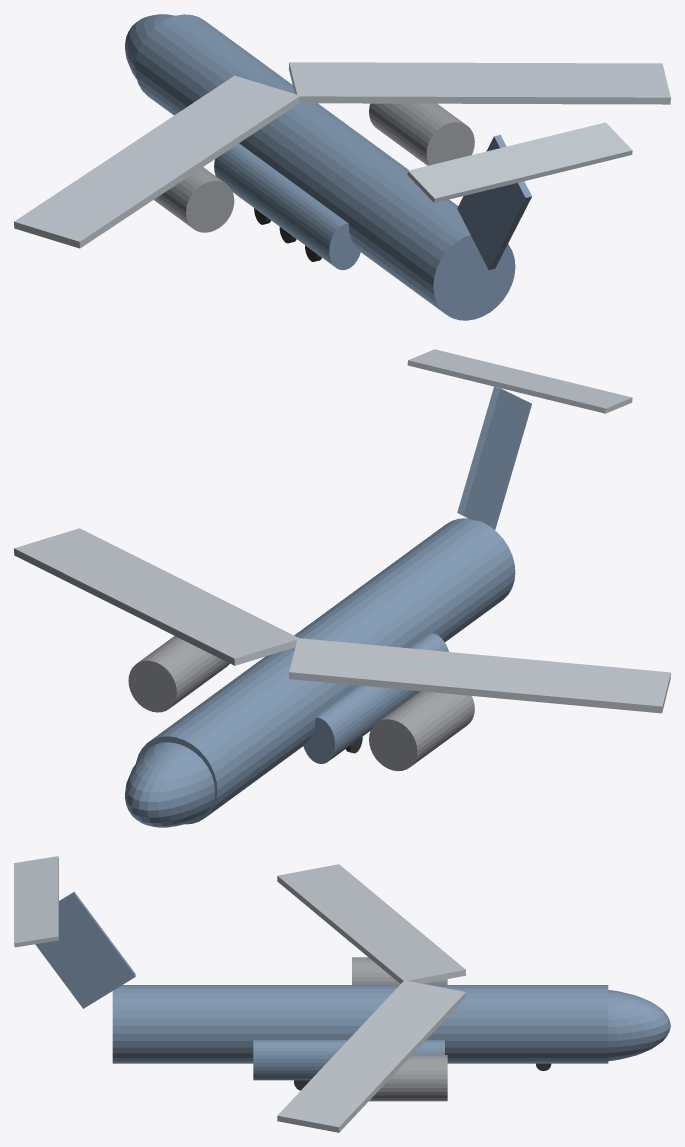
File: kawasaki_c2.glb
3 views of the same model, one above another, from view 1: azimuth 30°, elevation 25°; view 2: azimuth 150°, elevation 25°; view 3: azimuth 270°, elevation 25° (orthographic). The views are drawn at different scales.
Parts seen in each view (by area): view 1: C2_Fuselage, Cube.001, Cube, C2_HTail, Cylinder.003, Cylinder, C2_VFin, Cylinder.002, Sphere; view 2: C2_Fuselage, Cube.001, Cube, Sphere, C2_VFin, Cylinder.002, C2_HTail, Cylinder.003, Cylinder; view 3: C2_Fuselage, Cube, Cube.001, C2_VFin, C2_HTail, Cylinder.001, Sphere, Cylinder, Cylinder.002.
Boxes of the visible parts, x1,y1,x2,y2 form: C2_Fuselage: (135,14,515,320); Cube.001: (14,75,299,248); Cube: (289,62,670,104); C2_HTail: (407,122,632,202); Cylinder.003: (214,143,360,270); Cylinder: (369,103,474,165); C2_VFin: (457,135,531,269); Cylinder.002: (154,167,234,232); Sphere: (125,14,175,79); C2_Fuselage: (136,518,515,824); Cube.001: (288,638,670,713); Cube: (14,528,299,665); Sphere: (125,742,214,827); C2_VFin: (457,386,531,529); Cylinder.002: (369,691,474,771); C2_HTail: (407,349,632,413); Cylinder.003: (303,633,448,763); Cylinder: (128,636,229,712); C2_Fuselage: (112,985,608,1063); Cube: (277,980,466,1132); Cube.001: (277,864,466,983); C2_VFin: (35,891,135,1008); C2_HTail: (14,856,58,947); Cylinder.001: (253,1040,444,1080); Sphere: (608,990,670,1061); Cylinder: (369,1055,447,1101); Cylinder.002: (352,957,447,984).
Size of the model in its own units: 44.23 by 14.01 by 46.65.
